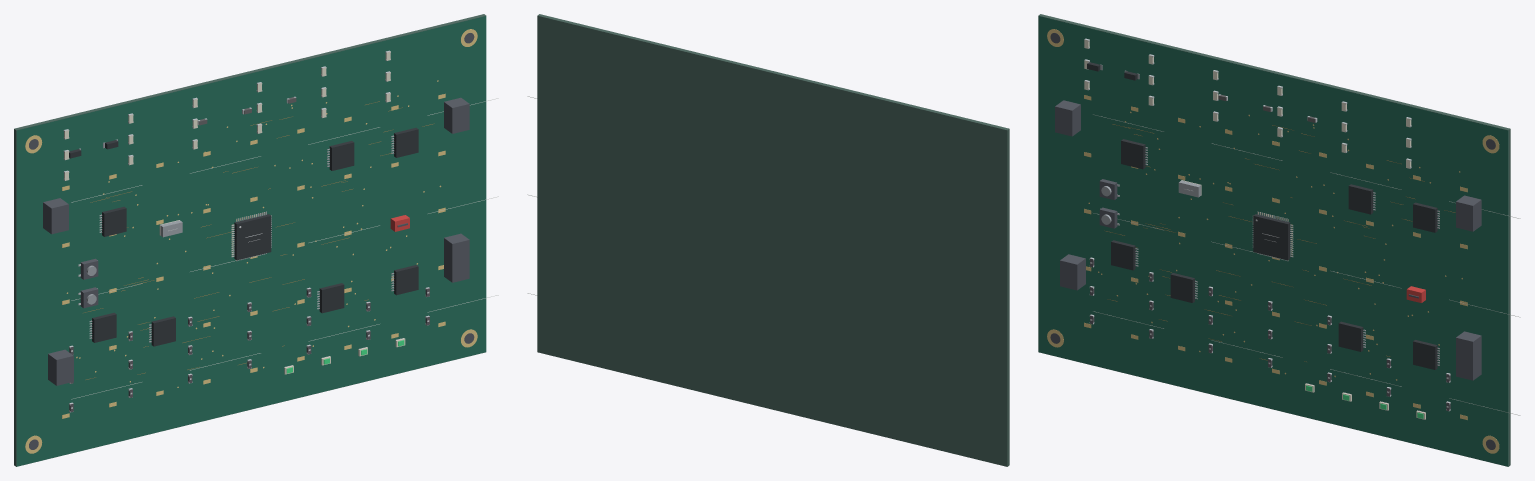
The model's file is L99_COMPLETE_BOARD_VISUAL_REFERENCE_ONLY.glb.
3 views of the same model, side by side, from view 1: azimuth 30°, elevation 25°; view 2: azimuth 150°, elevation 25°; view 3: azimuth 330°, elevation 25° (orthographic).
Parts seen in each view (by area): view 1: item63_1, item63_0, item1_0, item49_0, item47_0, item48_0, item50_0, item2_0, item6_0, item3_0, item5_0, item7_0 (+2 smaller); view 2: item63_0; view 3: item63_1, item63_0, item1_0, item49_0, item48_0, item47_0, item50_0, item2_0, item6_0, item3_0, item4_0, item8_0 (+2 smaller).
Boxes of the visible parts, left/top/right/bottom form: item63_1: left=16, top=16, right=486, bottom=466; item63_0: left=14, top=14, right=486, bottom=466; item1_0: left=234, top=214, right=271, bottom=260; item49_0: left=444, top=233, right=469, bottom=282; item47_0: left=43, top=198, right=68, bottom=234; item48_0: left=444, top=97, right=469, bottom=133; item50_0: left=48, top=349, right=73, bottom=385; item2_0: left=329, top=141, right=354, bottom=170; item6_0: left=319, top=283, right=344, bottom=313; item3_0: left=394, top=127, right=418, bottom=157; item5_0: left=151, top=316, right=175, bottom=346; item7_0: left=394, top=265, right=418, bottom=295; item63_0: left=537, top=14, right=1009, bottom=466; item63_1: left=1038, top=16, right=1508, bottom=466; item63_0: left=1038, top=14, right=1510, bottom=466; item1_0: left=1253, top=214, right=1290, bottom=260; item49_0: left=1456, top=331, right=1481, bottom=380; item48_0: left=1456, top=195, right=1481, bottom=231; item47_0: left=1055, top=100, right=1080, bottom=136; item50_0: left=1060, top=254, right=1085, bottom=290; item2_0: left=1348, top=184, right=1373, bottom=214; item6_0: left=1338, top=321, right=1363, bottom=351; item3_0: left=1413, top=202, right=1437, bottom=232; item4_0: left=1121, top=139, right=1145, bottom=169; item8_0: left=1111, top=240, right=1135, bottom=270.
Bounding box in the file's own units: 0.195 × 0.13 × 0.0081.
